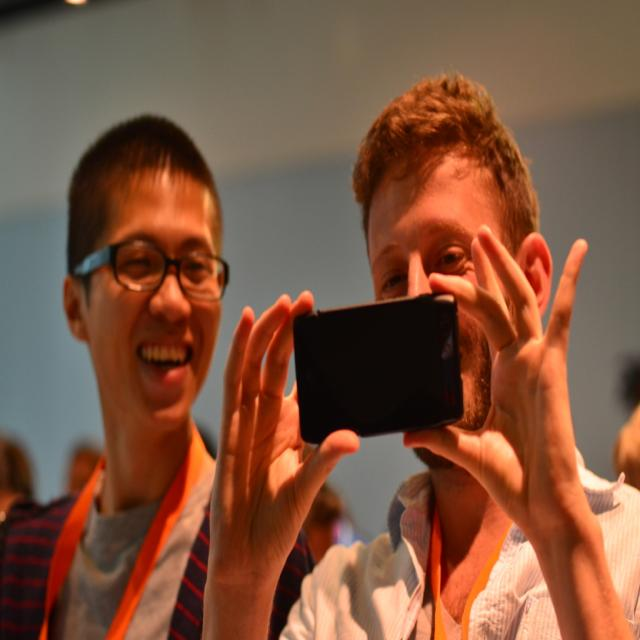Mobile-phone: (290, 289, 459, 442)
